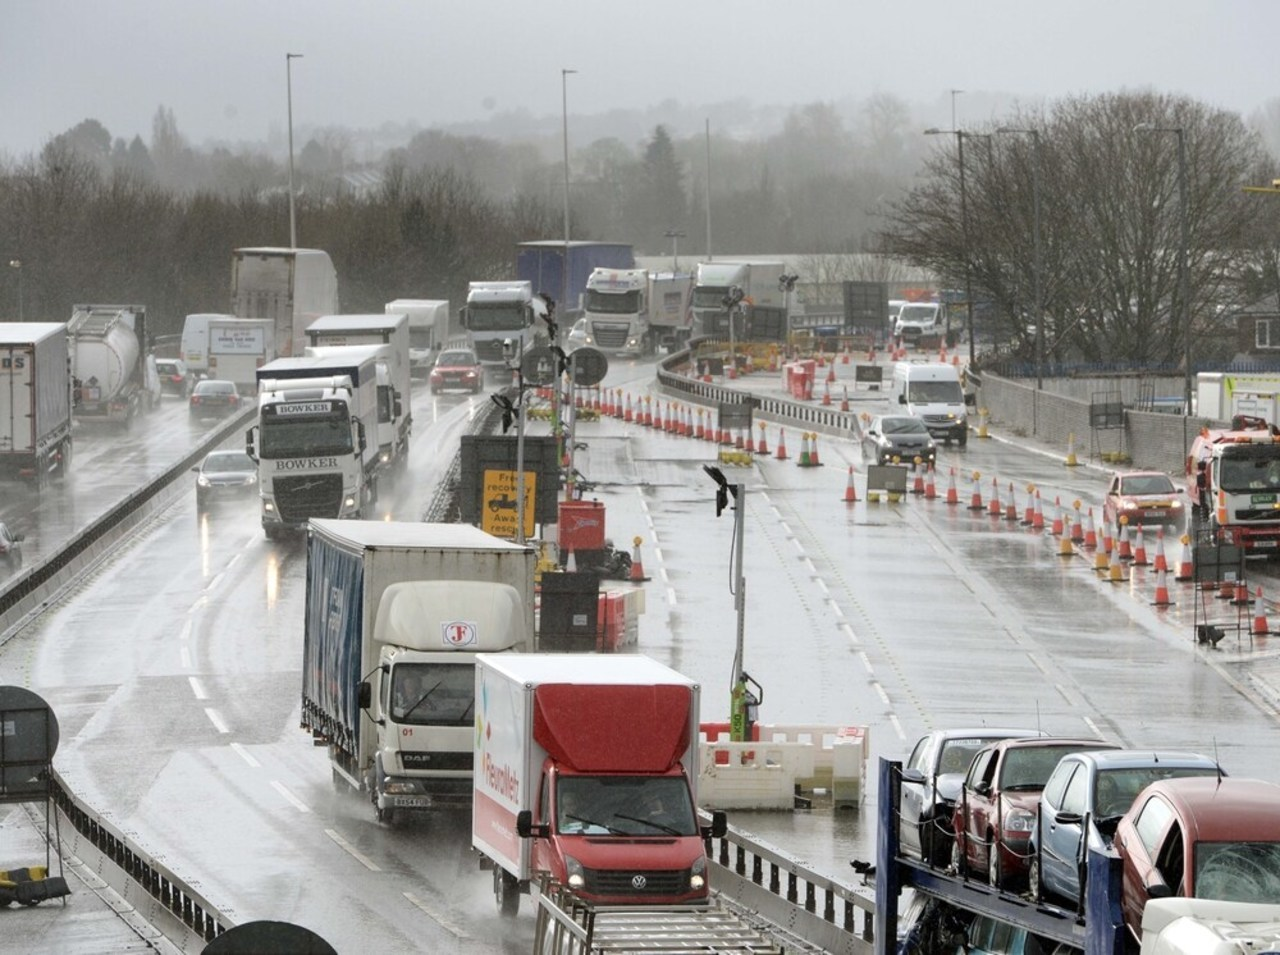car: (1118, 772, 1272, 893), (1042, 750, 1116, 900), (966, 735, 1040, 883), (889, 721, 966, 855), (899, 361, 971, 435), (861, 407, 940, 466), (1104, 471, 1183, 529), (184, 447, 259, 499), (182, 376, 241, 415), (430, 342, 476, 392), (158, 358, 193, 393)
truck: (463, 638, 712, 942), (304, 515, 536, 814), (259, 353, 374, 532), (68, 299, 174, 427), (1186, 428, 1275, 558), (6, 322, 66, 488), (579, 274, 691, 358), (233, 253, 342, 337), (688, 260, 788, 345), (365, 312, 409, 486), (461, 279, 545, 370), (208, 324, 273, 392), (892, 296, 968, 348), (400, 297, 451, 371)
